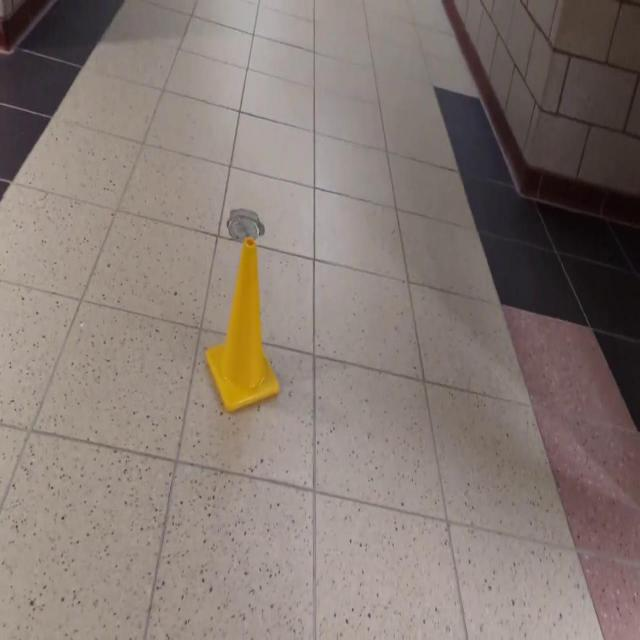frc_cone: (204, 236, 280, 416)
